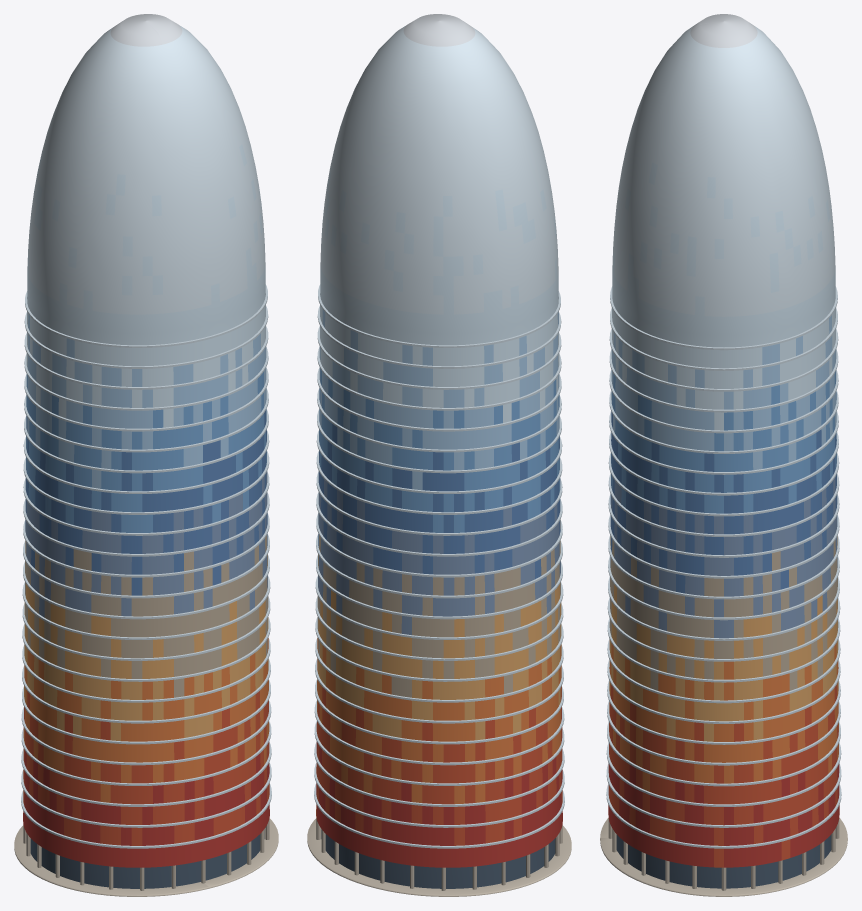
File: torre-glories.glb
The picture shows the model from 3 angles, left to right: view 1: azimuth 30°, elevation 25°; view 2: azimuth 150°, elevation 25°; view 3: azimuth 270°, elevation 25°; orthographic projection.
Parts seen in each view (by area): view 1: torre-glories; view 2: torre-glories; view 3: torre-glories.
Boxes of the visible parts, <box> form: torre-glories: <box>14,14,278,896</box>; torre-glories: <box>307,14,571,896</box>; torre-glories: <box>600,14,847,896</box>.
Bounding box in the file's own units: 42.91 × 144 × 39.59.
